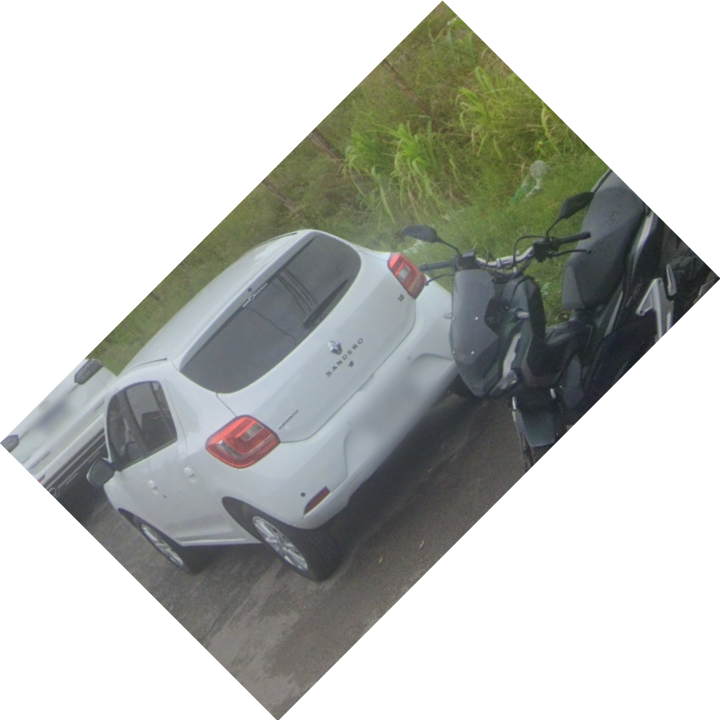car: (71, 226, 457, 589)
